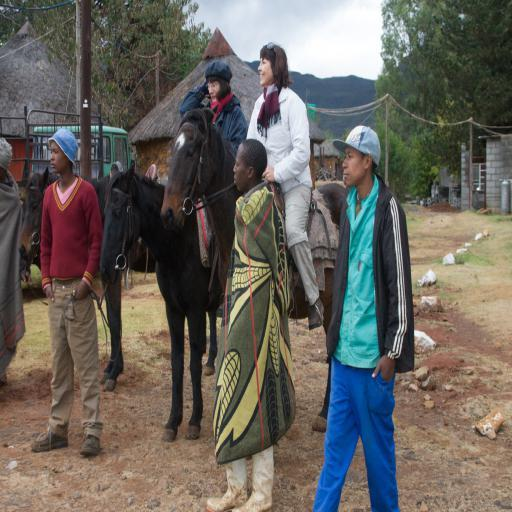Horse: (157, 108, 347, 433), (18, 164, 220, 395), (98, 157, 222, 444)
